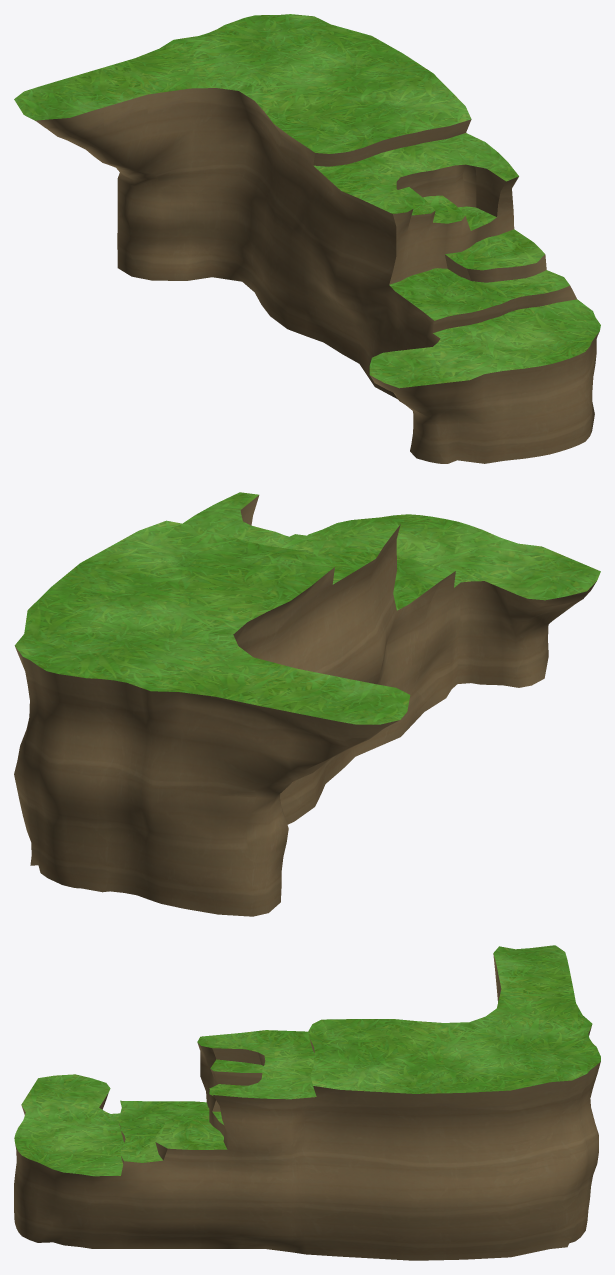
File: lvl1_plat016.FBX
3 views of the same model, one above another, from view 1: azimuth 30°, elevation 25°; view 2: azimuth 150°, elevation 25°; view 3: azimuth 270°, elevation 25° (orthographic). The views are drawn at different scales.
Visible parts, largest first — view 1: lvl1_plat_016, lvl1_plat_016_grass; view 2: lvl1_plat_016, lvl1_plat_016_grass; view 3: lvl1_plat_016, lvl1_plat_016_grass.
Boxes of the visible parts, x1,y1,x2,y2 form: lvl1_plat_016: (26, 88, 599, 463); lvl1_plat_016_grass: (14, 14, 600, 388); lvl1_plat_016: (14, 495, 596, 916); lvl1_plat_016_grass: (14, 492, 600, 724); lvl1_plat_016: (14, 954, 600, 1260); lvl1_plat_016_grass: (14, 945, 600, 1176).
Bounding box in the file's own units: 2912 × 1546 × 4761.
